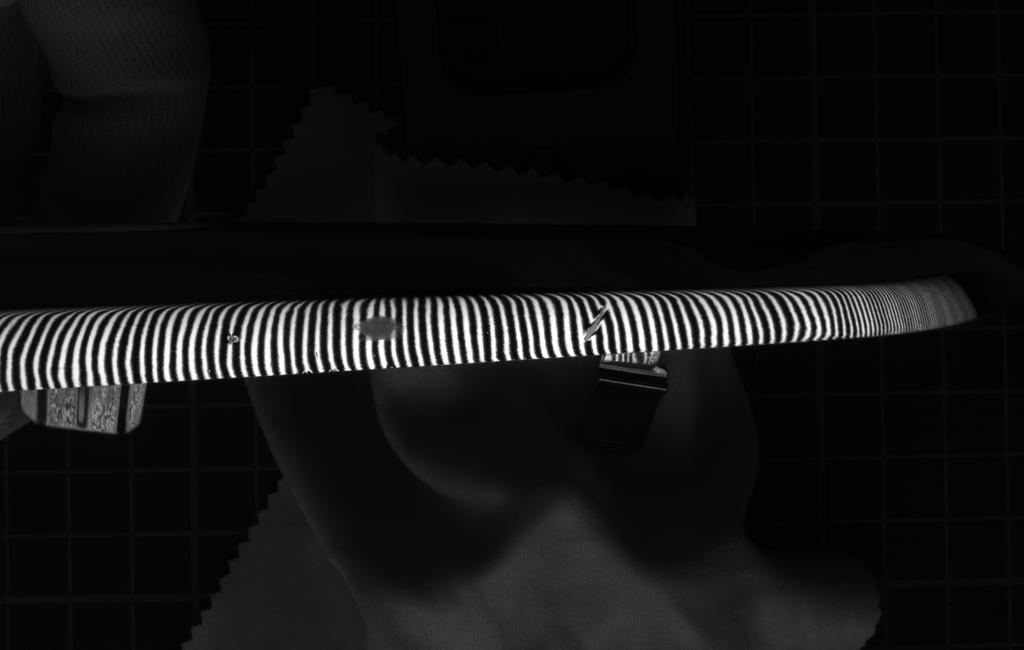Pierced: (219, 330, 251, 349)
Pitting: (348, 313, 410, 346)
Scratch: (577, 297, 618, 348)
